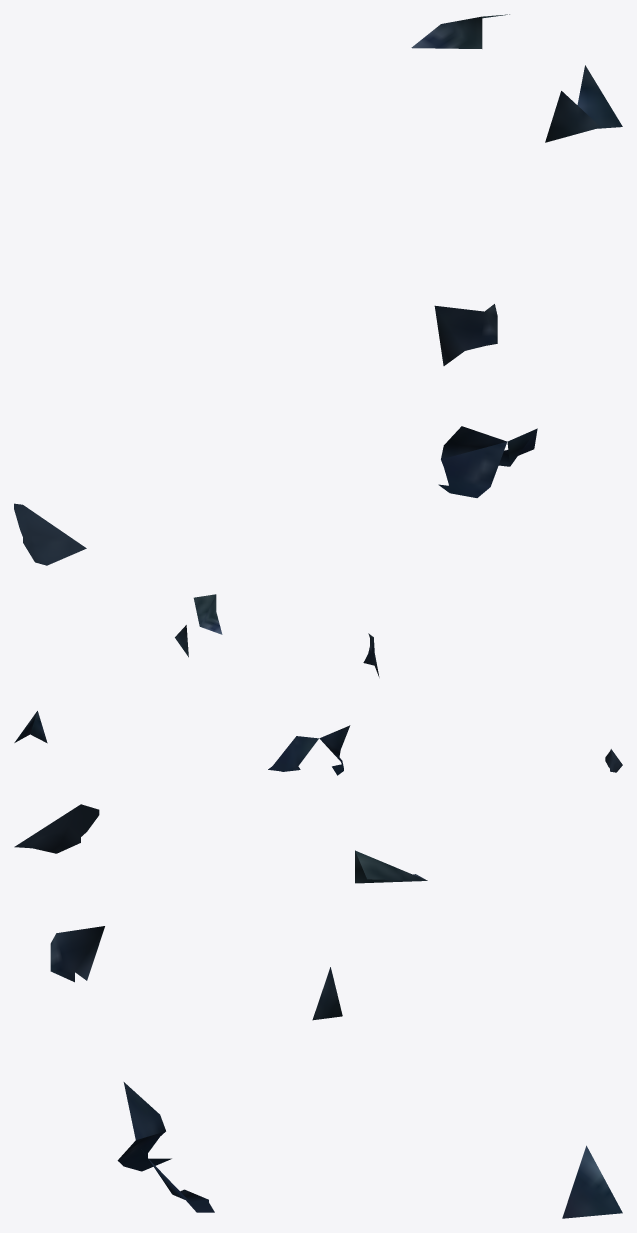
3 views of the same model, one above another, from view 1: azimuth 30°, elevation 25°; view 2: azimuth 150°, elevation 25°; view 3: azimuth 270°, elevation 25° (orthographic). The views are drawn at different scales.
Visible parts, largest first — view 1: 30436272704361616436_1; view 2: 30436272704361616436_1; view 3: 30436272704361616436_1.
Part boxes in pixels (x1,y1,x2,y2): 30436272704361616436_1: [14, 14, 622, 565]; 30436272704361616436_1: [14, 594, 622, 775]; 30436272704361616436_1: [14, 804, 622, 1218].
Size of the model in its own units: 24.85 by 10.48 by 15.43.
Materials: 1 (1 with a texture image).
